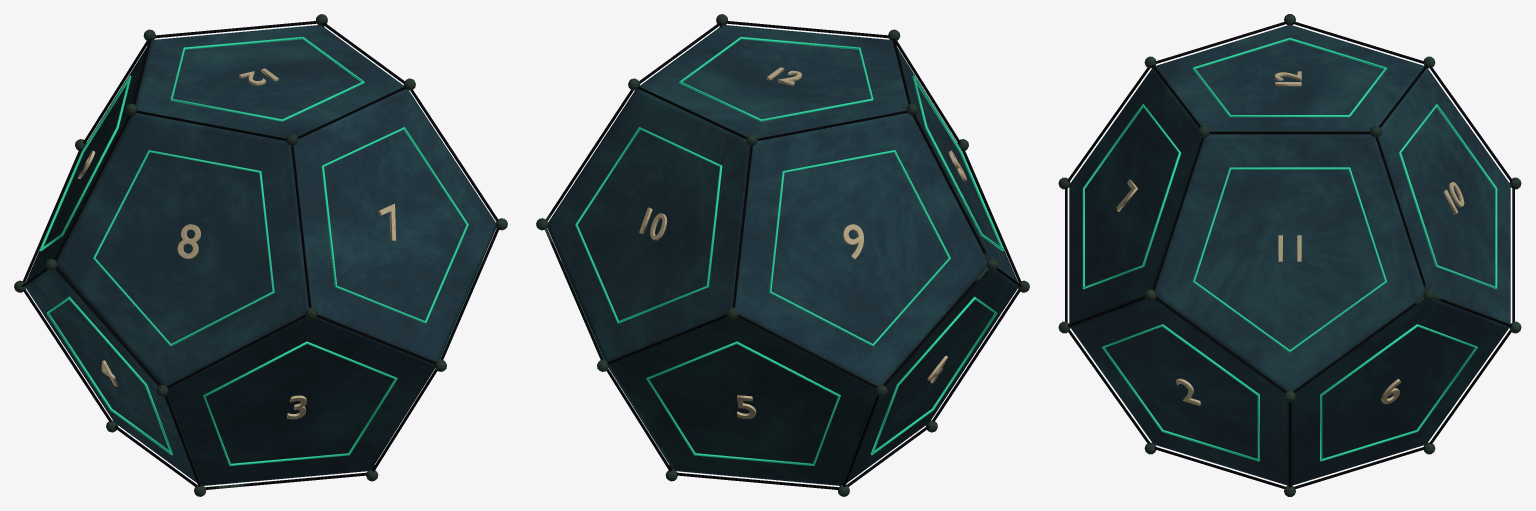
File: D12_十二面骰_baked.glb
3 renders of one model, left to right at view 1: azimuth 30°, elevation 25°; view 2: azimuth 150°, elevation 25°; view 3: azimuth 270°, elevation 25°, orthographic. The views are drawn at different scales.
Parts seen in each view (by area): view 1: D12_Body_12_Faces, D12_Aged_Bronze_Edges, D12_Occult_Face_Borders, D12_Vertex_Studs; view 2: D12_Body_12_Faces, D12_Aged_Bronze_Edges, D12_Occult_Face_Borders, D12_Vertex_Studs; view 3: D12_Body_12_Faces, D12_Aged_Bronze_Edges, D12_Occult_Face_Borders, D12_Vertex_Studs.
Part boxes in pixels (x1,y1,x2,y2): D12_Body_12_Faces: (25, 25, 496, 485); D12_Aged_Bronze_Edges: (21, 21, 499, 489); D12_Occult_Face_Borders: (39, 37, 482, 466); D12_Vertex_Studs: (14, 14, 507, 496); D12_Body_12_Faces: (547, 25, 1018, 485); D12_Aged_Bronze_Edges: (544, 21, 1022, 489); D12_Occult_Face_Borders: (561, 37, 1004, 466); D12_Vertex_Studs: (536, 14, 1029, 496); D12_Body_12_Faces: (1069, 25, 1510, 485); D12_Aged_Bronze_Edges: (1065, 21, 1514, 488); D12_Occult_Face_Borders: (1082, 38, 1497, 461); D12_Vertex_Studs: (1058, 14, 1521, 496).
Size of the model in its own units: 4.39 by 3.57 by 4.18.
16 materials, 15 textured.
